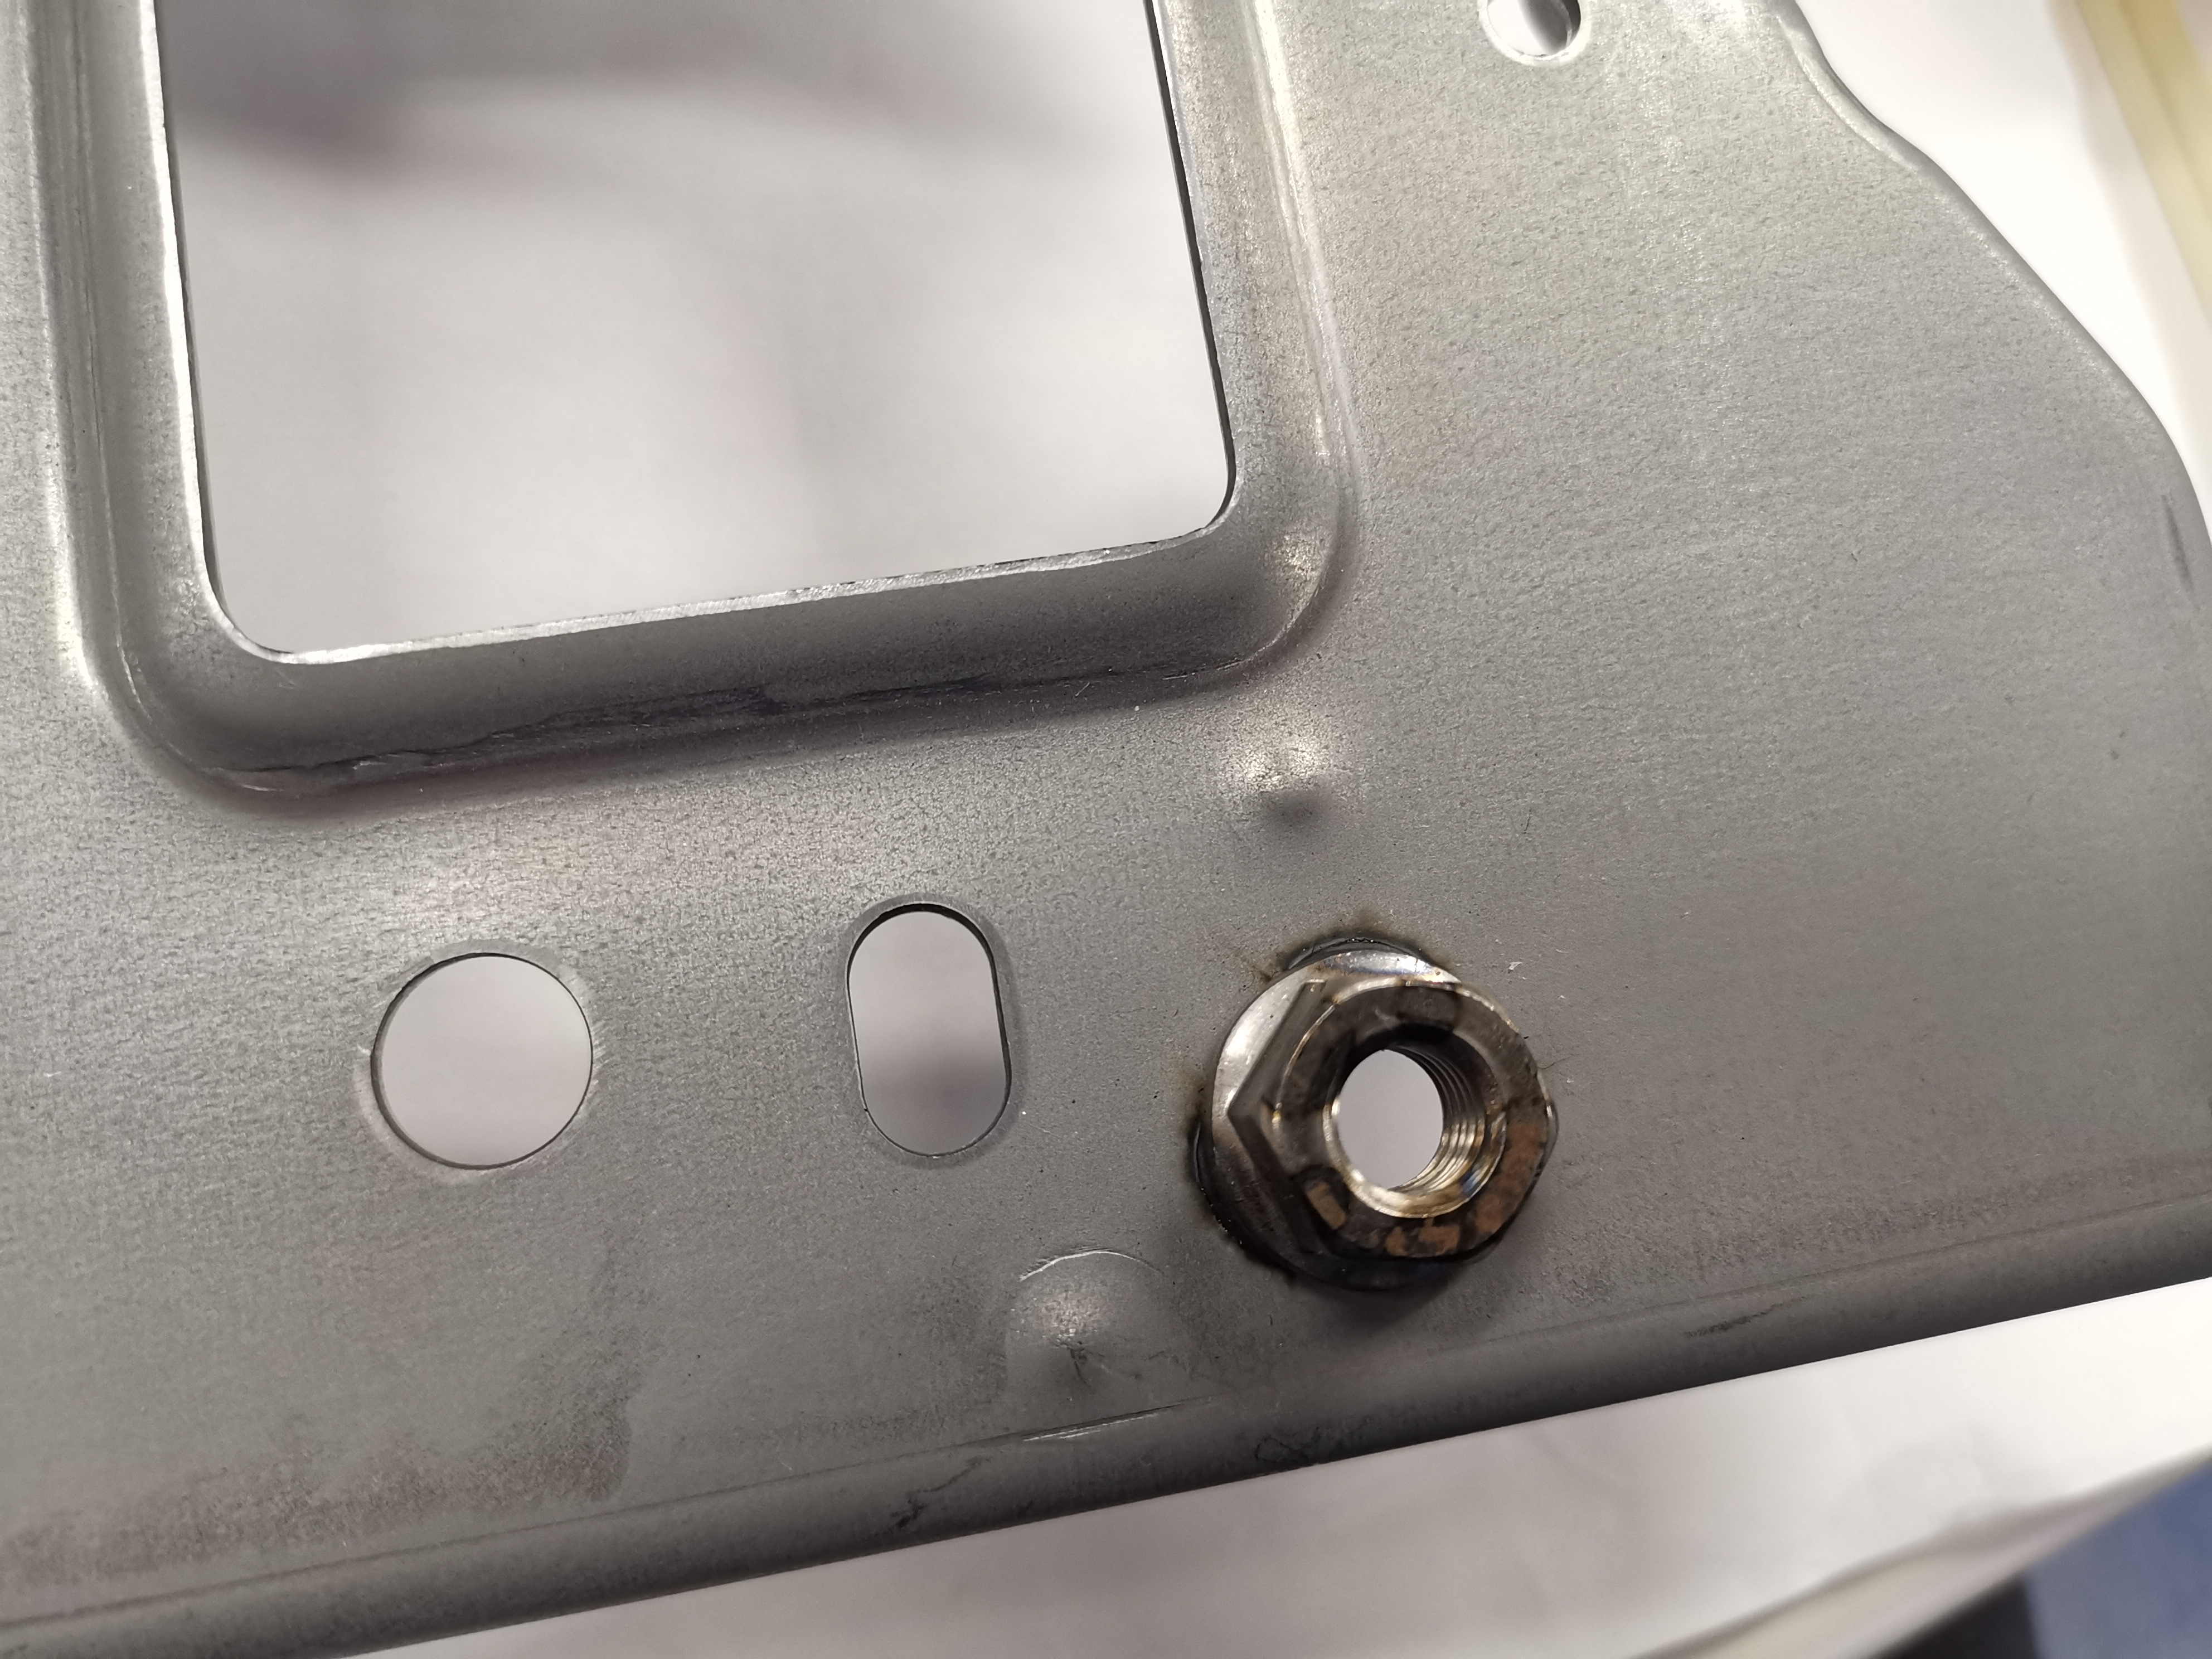dog: (1183, 920, 1569, 1305)
